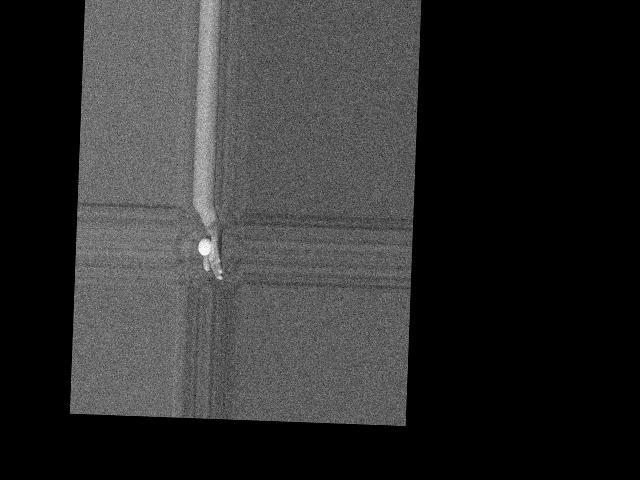egg: (197, 237, 212, 255)
